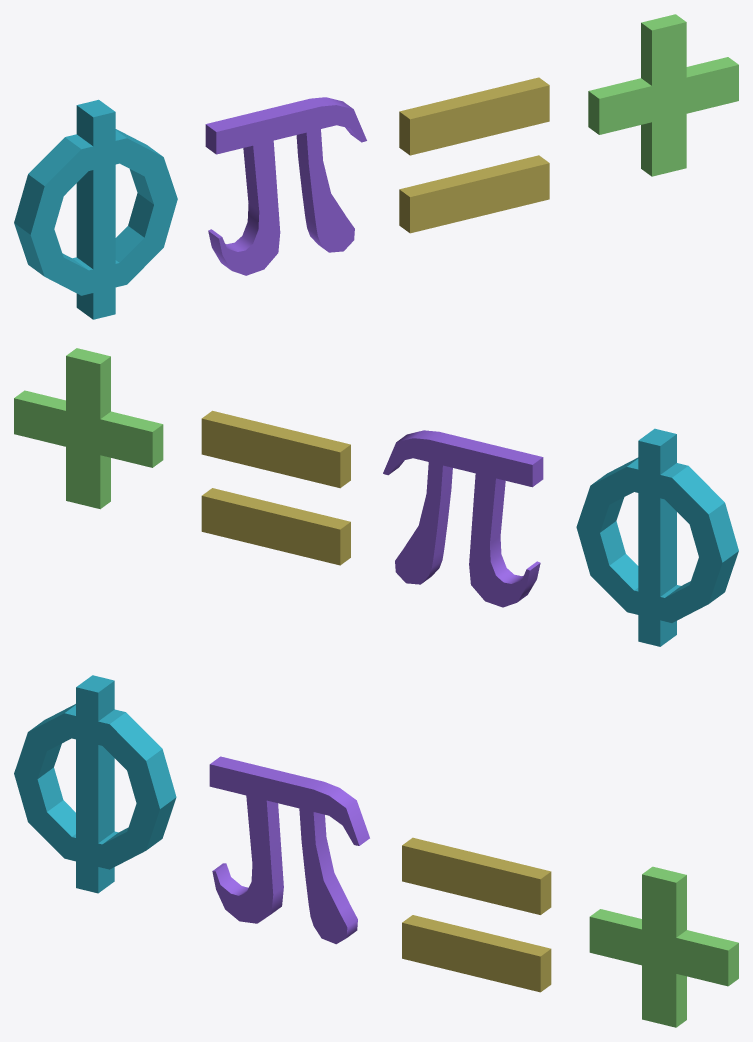
File: Math Signs.fbx
3 renders of one model, top to bottom at view 1: azimuth 30°, elevation 25°; view 2: azimuth 150°, elevation 25°; view 3: azimuth 330°, elevation 25°, orthographic.
Parts seen in each view (by area): view 1: pCylinder4, polySurface1, polySurface3, pPlane4; view 2: pCylinder4, polySurface1, polySurface3, pPlane4; view 3: pCylinder4, polySurface3, polySurface1, pPlane4.
Part boxes in pixels (left/top/right/bottom): pCylinder4: left=14, top=99, right=177, bottom=319; polySurface1: left=399, top=77, right=549, bottom=233; polySurface3: left=205, top=97, right=366, bottom=275; pPlane4: left=588, top=14, right=738, bottom=176; pCylinder4: left=576, top=428, right=738, bottom=646; polySurface1: left=201, top=410, right=350, bottom=565; polySurface3: left=383, top=430, right=543, bottom=607; pPlane4: left=14, top=348, right=163, bottom=509; pCylinder4: left=14, top=675, right=176, bottom=893; polySurface3: left=209, top=756, right=369, bottom=944; polySurface1: left=402, top=837, right=551, bottom=992; pPlane4: left=589, top=866, right=738, bottom=1027.
Size of the model in its own units: 20.62 by 5.59 by 0.8315.
